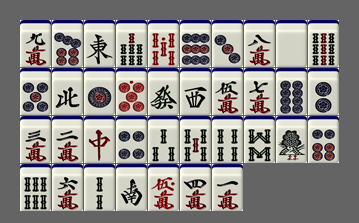0m: (148, 164, 179, 211)
0p: (116, 68, 147, 115)
0s: (148, 20, 179, 67)
1m: (212, 164, 243, 211)
1p: (84, 68, 115, 115)
1s: (276, 116, 307, 163)
1z: (84, 20, 115, 67)
2m: (52, 116, 83, 163)
2p: (308, 68, 339, 115)
2s: (84, 164, 115, 211)
2z: (116, 164, 147, 211)
3m: (20, 116, 51, 163)
3p: (212, 20, 243, 67)
3s: (148, 116, 179, 163)
3z: (180, 68, 211, 115)
4m: (180, 164, 211, 211)
4p: (116, 116, 147, 163)
4s: (212, 116, 243, 163)
4z: (52, 68, 83, 115)
5m: (212, 68, 243, 115)
5p: (20, 68, 51, 115)
5s: (180, 116, 211, 163)
5z: (276, 20, 307, 67)
6m: (52, 164, 83, 211)
6p: (308, 116, 339, 163)
6s: (20, 164, 51, 211)
6z: (148, 68, 179, 115)
7m: (244, 68, 275, 115)
7p: (52, 20, 83, 67)
7s: (116, 20, 147, 67)
7z: (84, 116, 115, 163)
8m: (244, 20, 275, 67)
8p: (276, 68, 307, 115)
8s: (244, 116, 275, 163)
9m: (20, 20, 51, 67)
9p: (180, 20, 211, 67)
9s: (308, 20, 339, 67)
